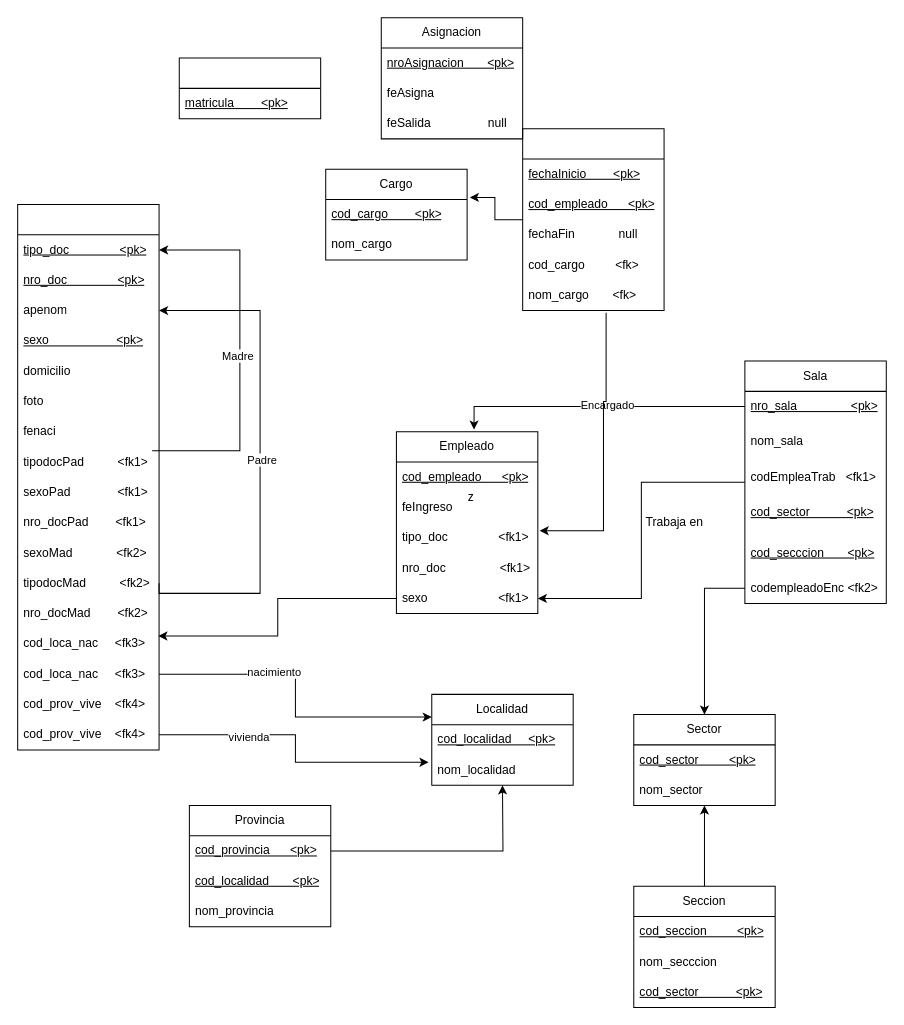
Image size: 904x1025. Some labels were removed from this diagram. The box of each missing label's shape, as (x1, y1, x2, y2) in pixels:
Historial: (522, 128, 664, 311)
Medico: (178, 57, 321, 119)
Persona: (17, 204, 159, 750)
